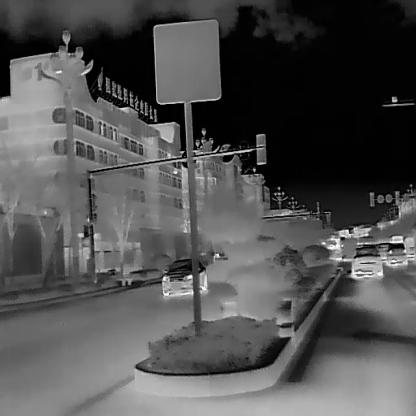bus: (390, 234, 404, 242)
car: (160, 258, 208, 295), (350, 244, 384, 280), (384, 241, 407, 266), (374, 241, 390, 261)
truck: (322, 230, 342, 260)
